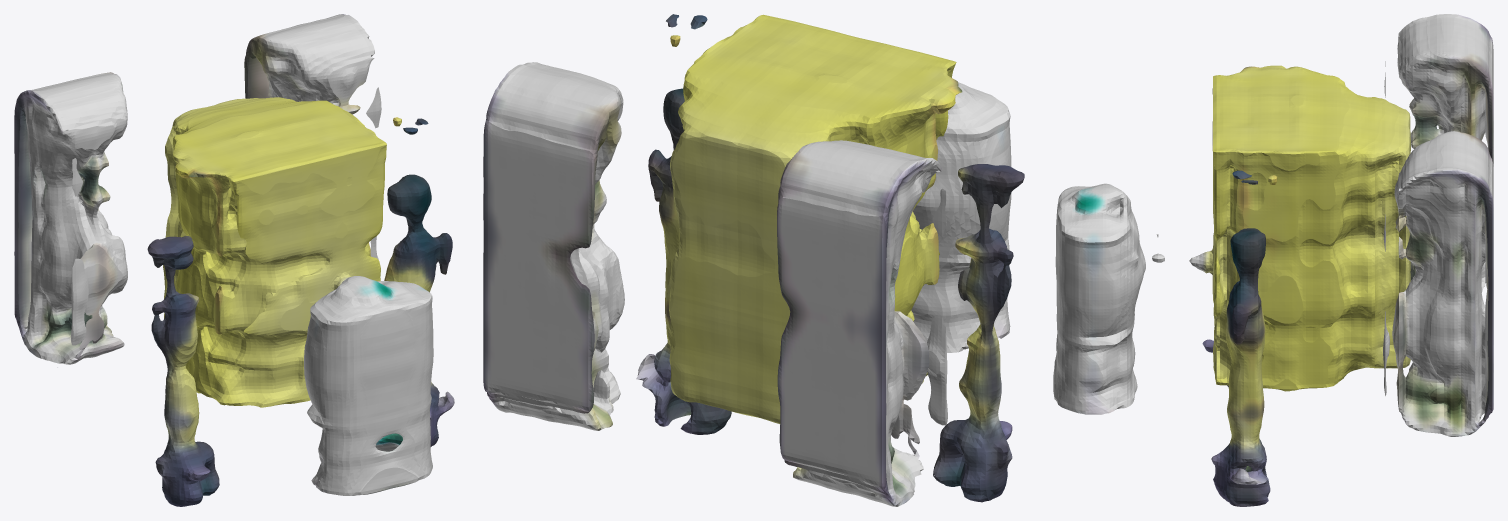
Rendered from wall_e_model.glb.
The picture shows the model from 3 angles, left to right: view 1: azimuth 30°, elevation 25°; view 2: azimuth 150°, elevation 25°; view 3: azimuth 270°, elevation 25°; orthographic projection. The views are drawn at different scales.
Visible parts, largest first — view 1: world; view 2: world; view 3: world.
Part boxes in pixels (x1,y1,x2,y2): world: (14,14,454,506); world: (483,14,1024,506); world: (1053,14,1493,506).
Size of the model in its own units: 1.68 by 1.73 by 1.98.
